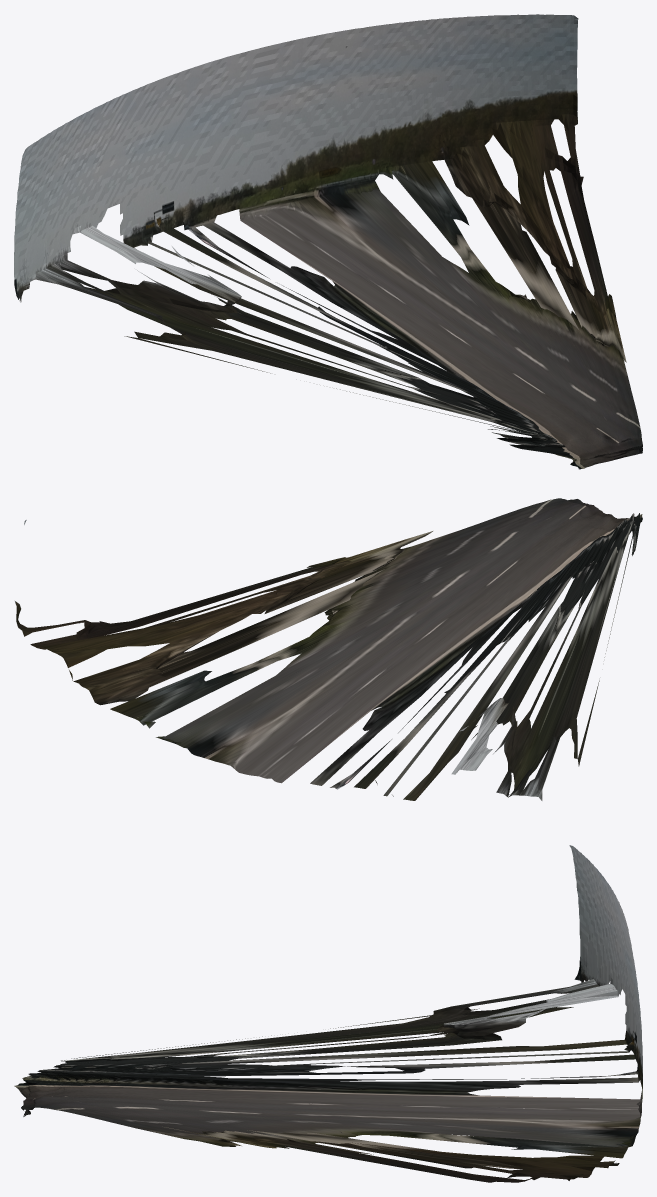
3 renders of one model, top to bottom at view 1: azimuth 30°, elevation 25°; view 2: azimuth 150°, elevation 25°; view 3: azimuth 270°, elevation 25°, orthographic. The views are drawn at different scales.
Visible parts, largest first — view 1: defaultobject; view 2: defaultobject; view 3: defaultobject.
Part boxes in pixels (box(x1,y1,x2,y2)): defaultobject: box(14, 14, 642, 469); defaultobject: box(14, 498, 642, 800); defaultobject: box(14, 845, 642, 1182).
Bounding box in the file's own units: 41.11 × 12.09 × 44.75.
1 material, 1 textured.
